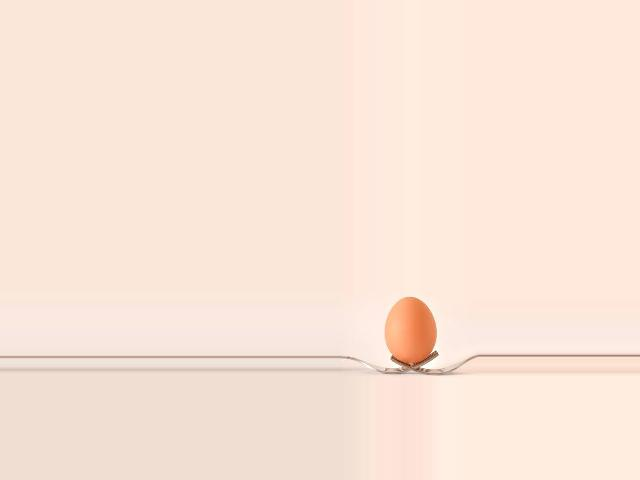egg: (384, 297, 435, 363)
